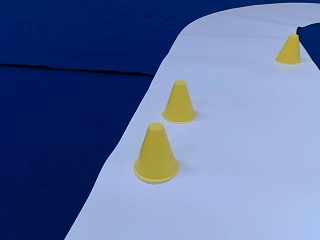cone: (134, 125, 179, 182), (163, 81, 196, 122), (275, 34, 300, 65)
